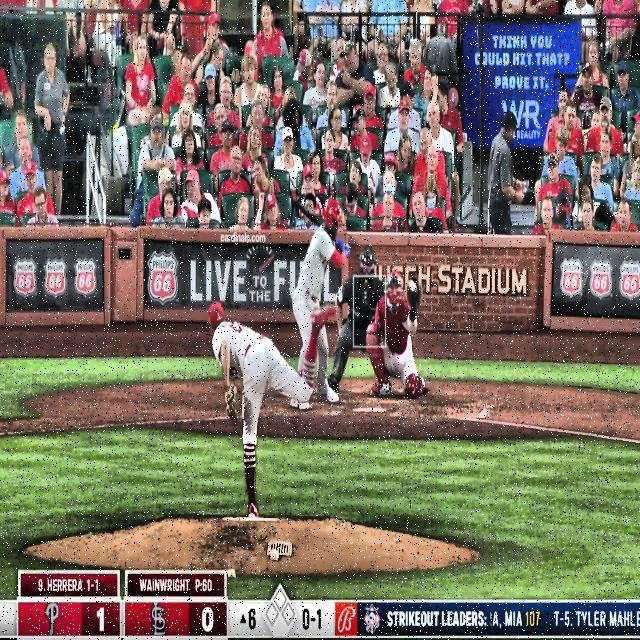baseball: (407, 278, 418, 294)
